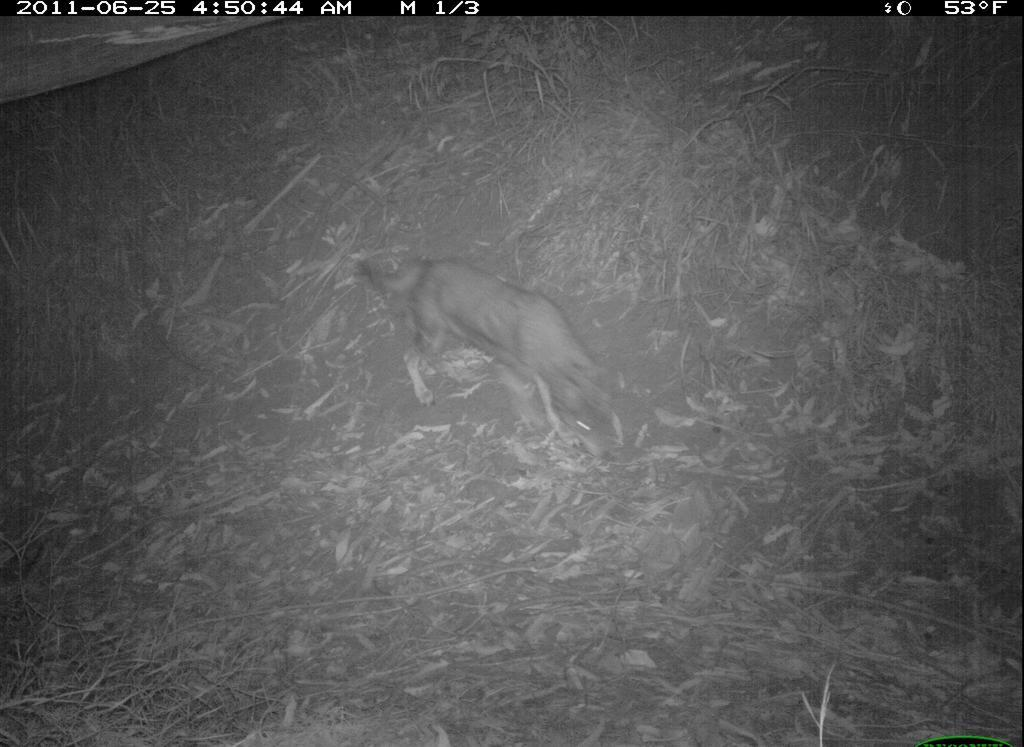coyote: (351, 240, 632, 470)
